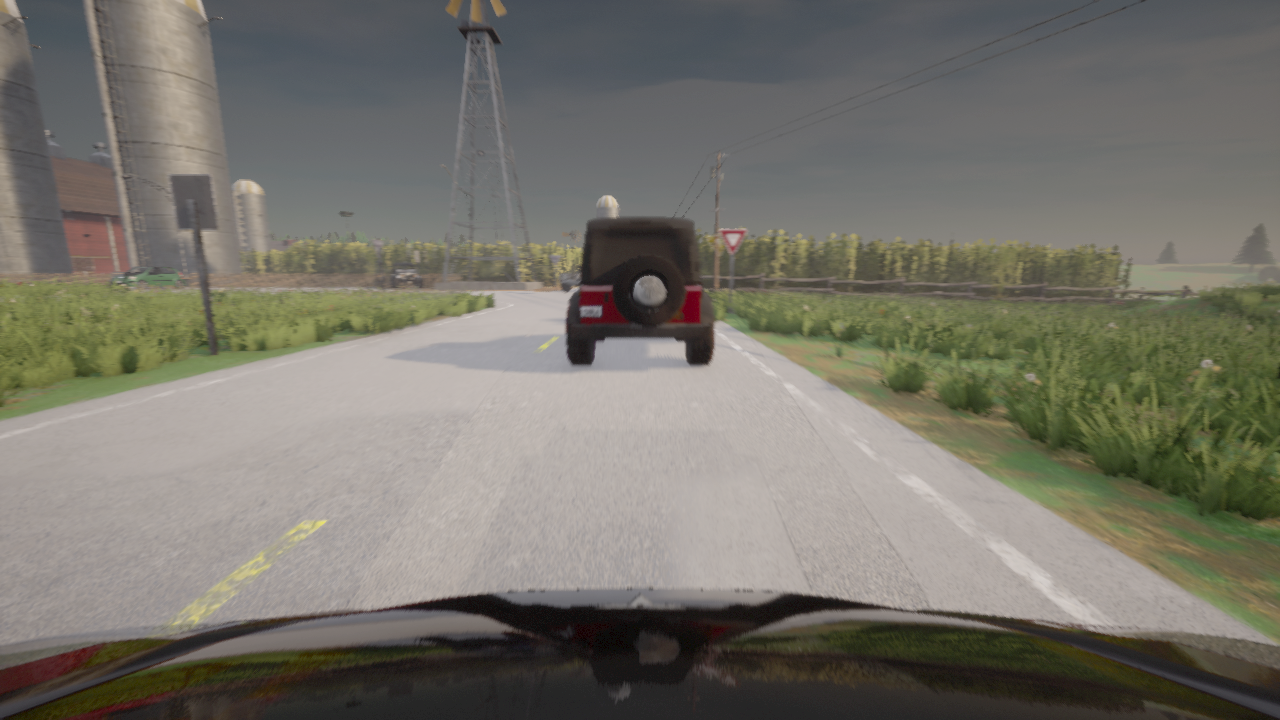cyclist: (0, 588, 1279, 719), (566, 217, 713, 364), (110, 266, 184, 289), (391, 263, 423, 288), (560, 266, 580, 291)
